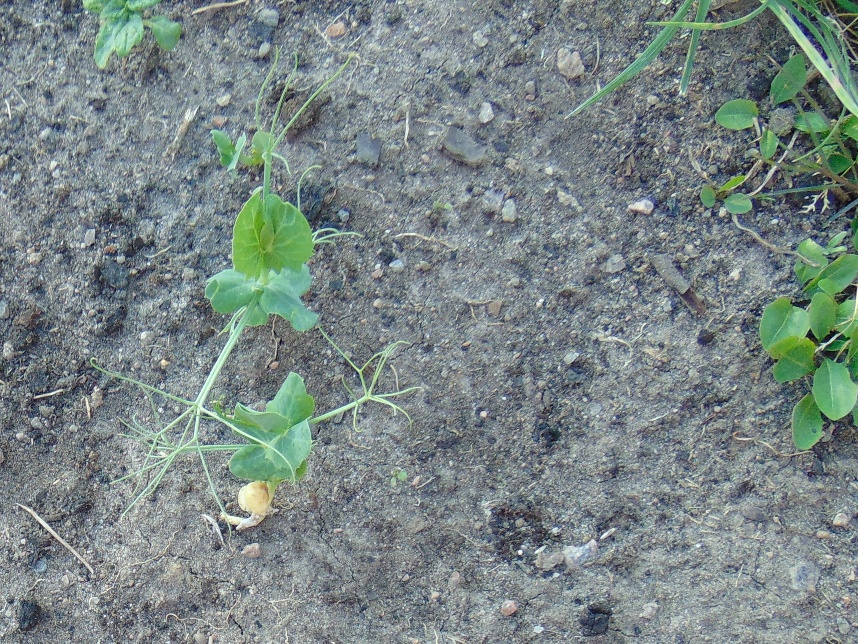crop: (181, 90, 381, 483), (130, 358, 400, 509)
weed: (682, 1, 858, 219), (752, 190, 858, 447), (82, 1, 182, 70)
